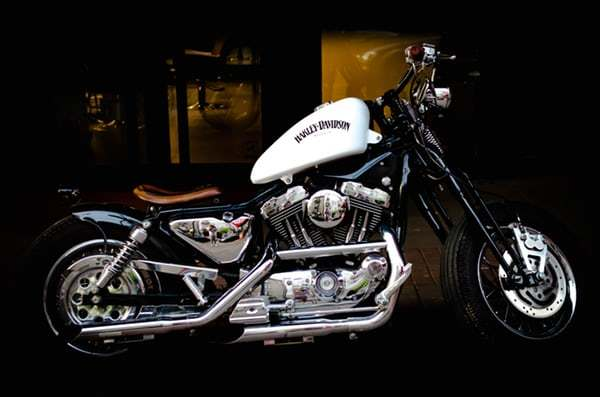30_label: (37, 27, 587, 362)
